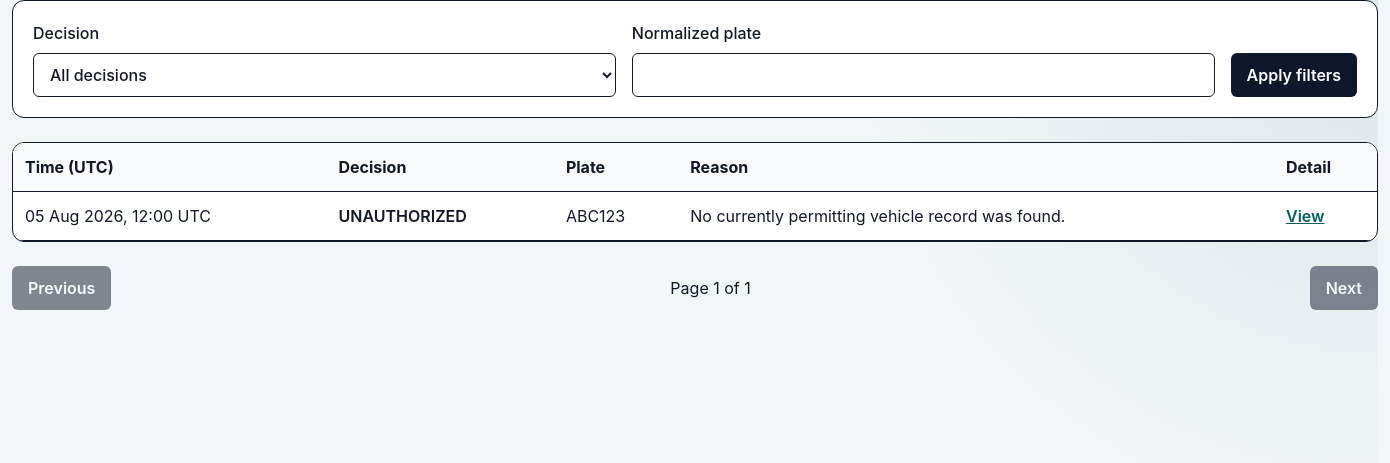
Test: Day 14 operational views › renders a sanitized detail failure without removing history
Expected: the text "ABC123" is shown, [554,192,678,240]
Click the button "View" at (1305, 216), box [1286,204,1324,228]
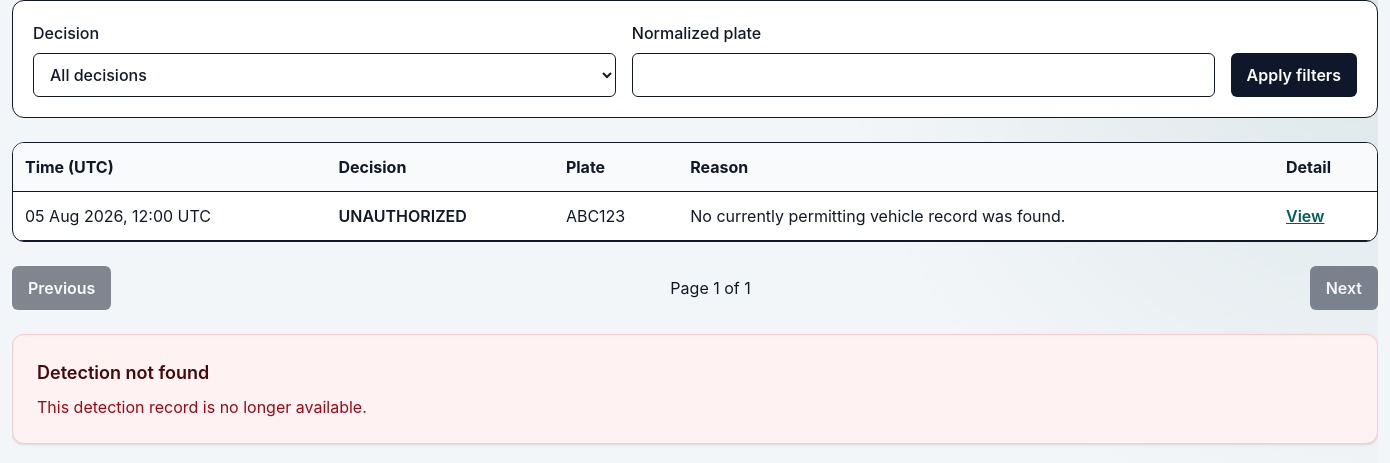
Expected: the text "ABC123" is shown, [554,192,678,240]
Result: the heading "Detection not found" is shown at [37,362,209,383]
Result: the text "This detection record is no longer available." is shown at [37,397,367,417]
